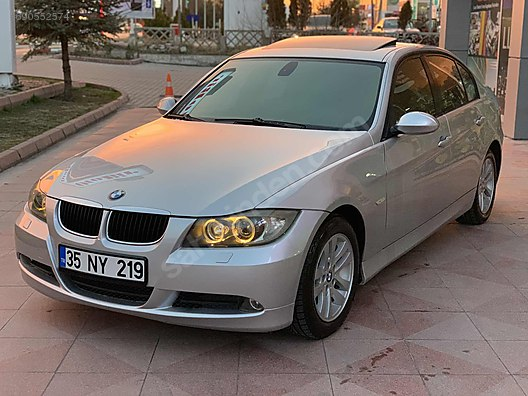bmw: (10, 32, 506, 342)
